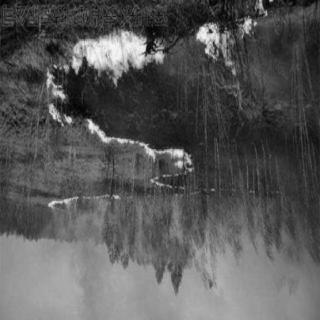Fire: (196, 8, 269, 110), (48, 193, 120, 231)
